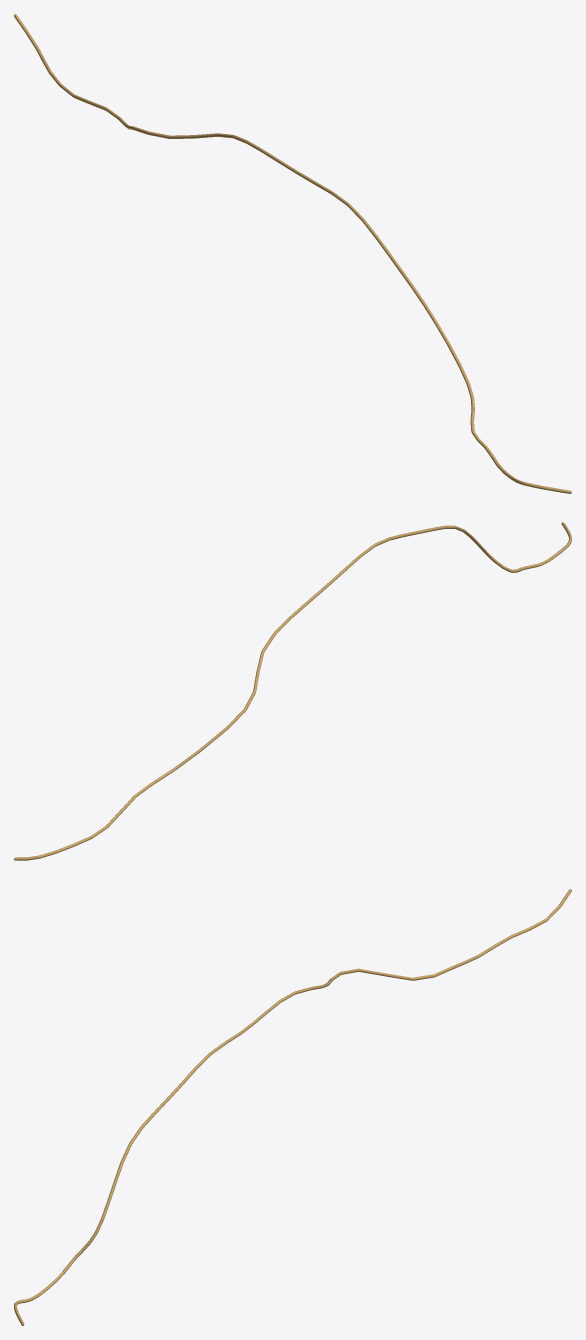
3 views of the same model, one above another, from view 1: azimuth 30°, elevation 25°; view 2: azimuth 150°, elevation 25°; view 3: azimuth 330°, elevation 25° (orthographic). The views are drawn at different scales.
Parts seen in each view (by area): view 1: 左侧横突间韧带; view 2: 左侧横突间韧带; view 3: 左侧横突间韧带.
Part boxes in pixels (x1=…): 左侧横突间韧带: x1=14, y1=14, x2=571, y2=493; 左侧横突间韧带: x1=14, y1=522, x2=571, y2=860; 左侧横突间韧带: x1=14, y1=889, x2=571, y2=1325.
Size of the model in its own units: 0.0506 by 0.1134 by 0.8324.
